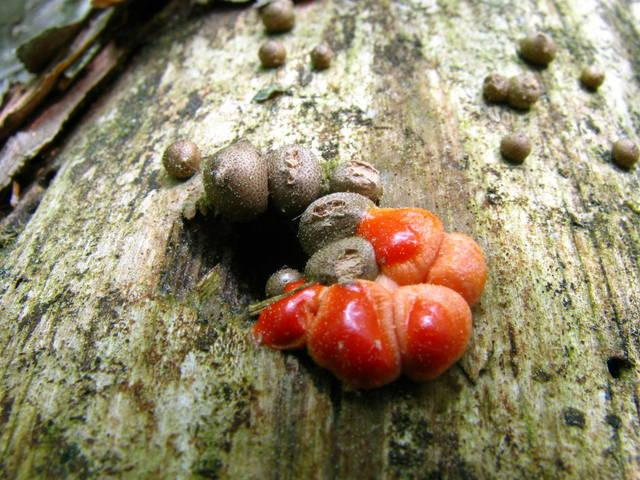Non-edible Mushroom: (162, 136, 489, 390), (251, 276, 473, 389), (201, 139, 269, 218), (296, 190, 376, 254), (266, 143, 324, 215), (303, 235, 379, 284), (327, 158, 383, 202), (161, 138, 201, 179), (516, 30, 556, 65), (260, 0, 295, 32), (498, 132, 531, 163), (610, 137, 638, 168), (481, 72, 509, 103), (257, 39, 286, 67)
